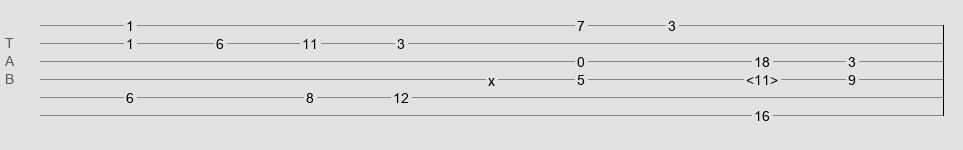0: (577, 54, 585, 64)
1: (126, 18, 134, 28), (126, 36, 134, 46)
11: (302, 36, 318, 46)
12: (393, 90, 409, 100)
16: (754, 108, 770, 118)
18: (754, 54, 770, 64)
3: (397, 36, 405, 46), (668, 18, 676, 28), (848, 54, 856, 64)
5: (577, 72, 585, 82)
6: (126, 90, 134, 100), (216, 36, 224, 46)
7: (577, 18, 585, 28)
8: (306, 90, 314, 100)
9: (848, 72, 856, 82)
harmonic: (746, 72, 778, 82)
x: (488, 73, 495, 81)
